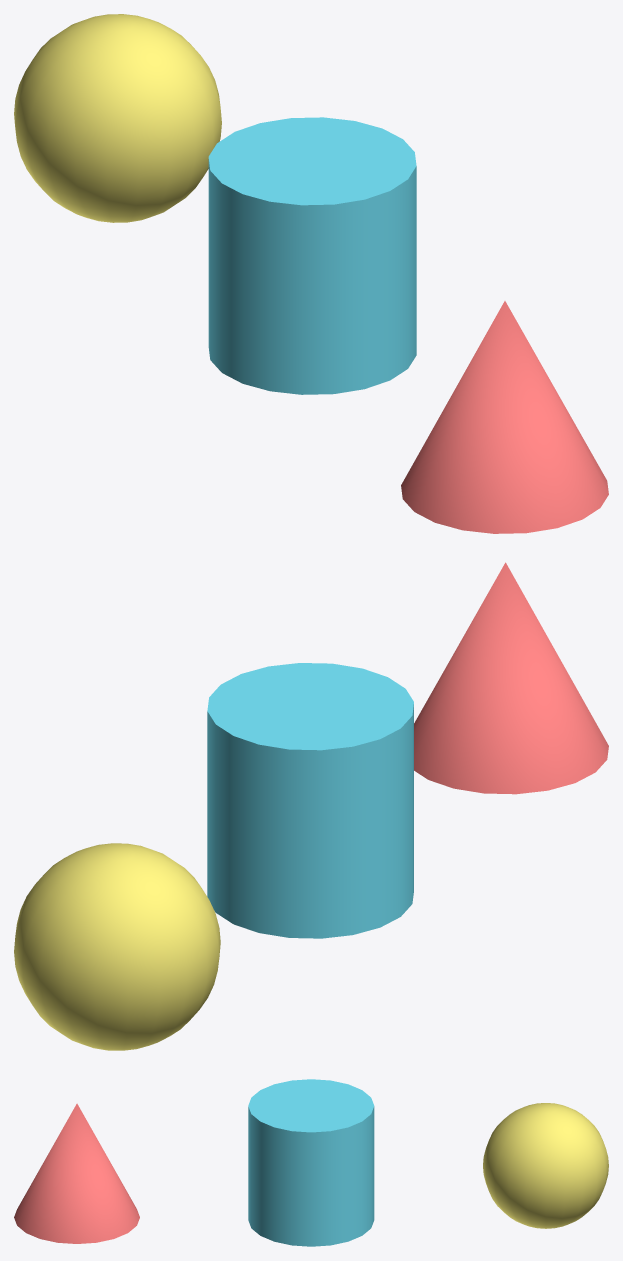
3 views of the same model, one above another, from view 1: azimuth 30°, elevation 25°; view 2: azimuth 150°, elevation 25°; view 3: azimuth 270°, elevation 25° (orthographic). The views are drawn at different scales.
Visible parts, largest first — view 1: pCylinder1, pSphere1, pCone1; view 2: pCylinder1, pSphere1, pCone1; view 3: pCylinder1, pSphere1, pCone1.
Part boxes in pixels (left/top/right/bottom): pCylinder1: left=208, top=117, right=416, bottom=394; pSphere1: left=14, top=14, right=221, bottom=222; pCone1: left=401, top=301, right=608, bottom=533; pCylinder1: left=207, top=663, right=413, bottom=938; pSphere1: left=14, top=843, right=220, bottom=1050; pCone1: left=414, top=562, right=608, bottom=794; pCylinder1: left=248, top=1079, right=374, bottom=1246; pSphere1: left=483, top=1103, right=608, bottom=1228; pCone1: left=14, top=1103, right=139, bottom=1243.
Bounding box in the file's own units: 2.02 × 2.09 × 9.44.
